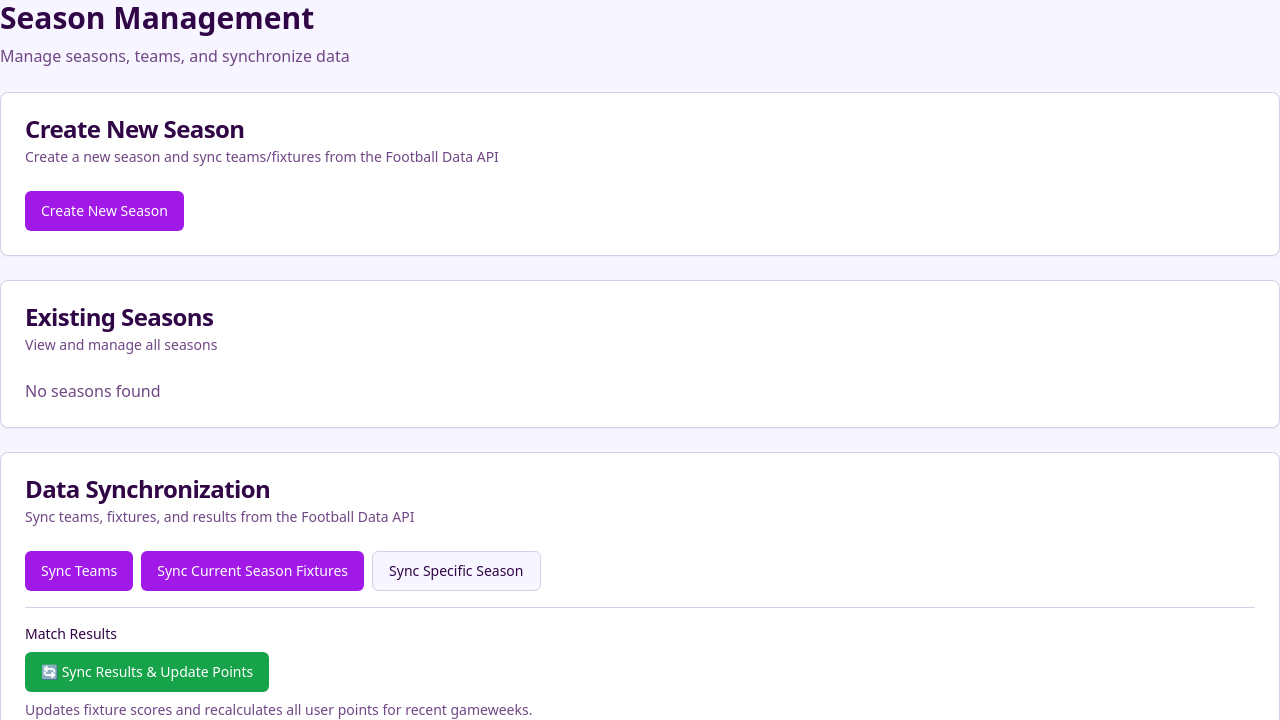
Test: SeasonManagementPage - Create New Season › Season Creation Flow › should show season selection form when "Create New Season" is clicked
Step 1. Click the button "Create New Season" → (104, 211), box [25,191,184,231]
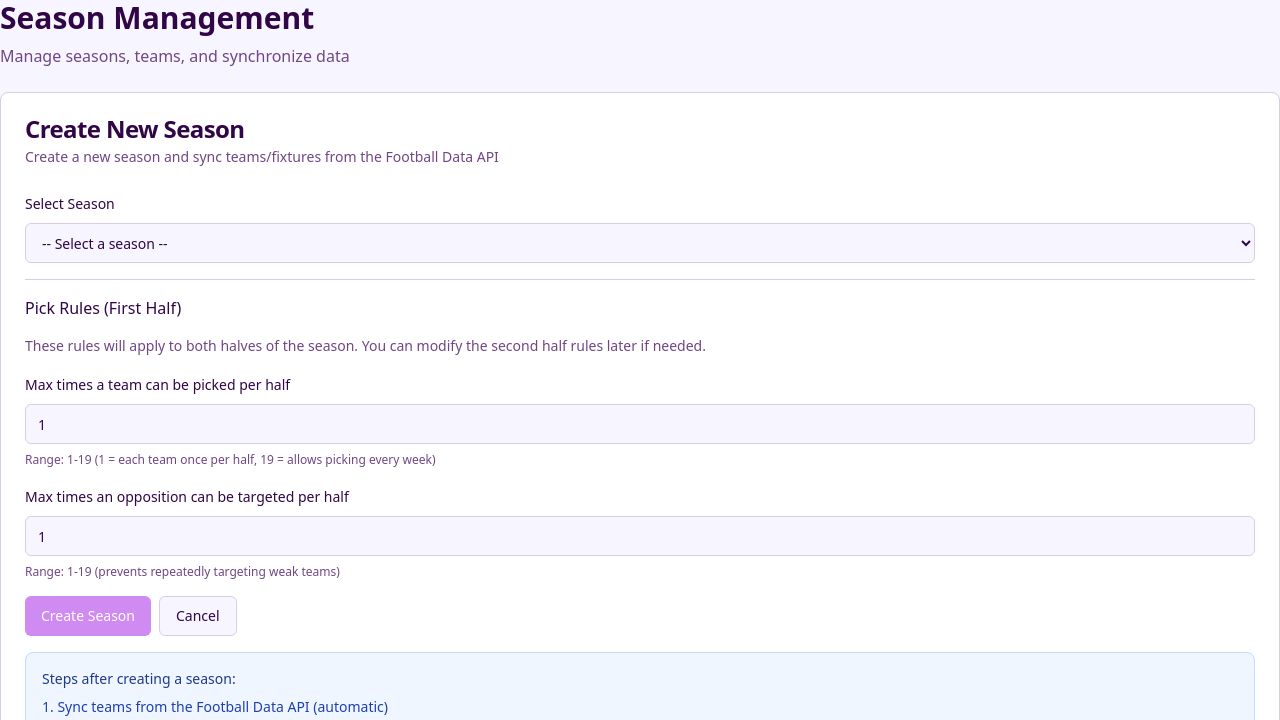
Check: the dropdown labelled "Select Season" is shown, box [25,223,1255,263]
Check: the button "Create Season" is shown, box [25,596,151,636]
Check: the button "Cancel" is shown, box [159,596,237,636]
